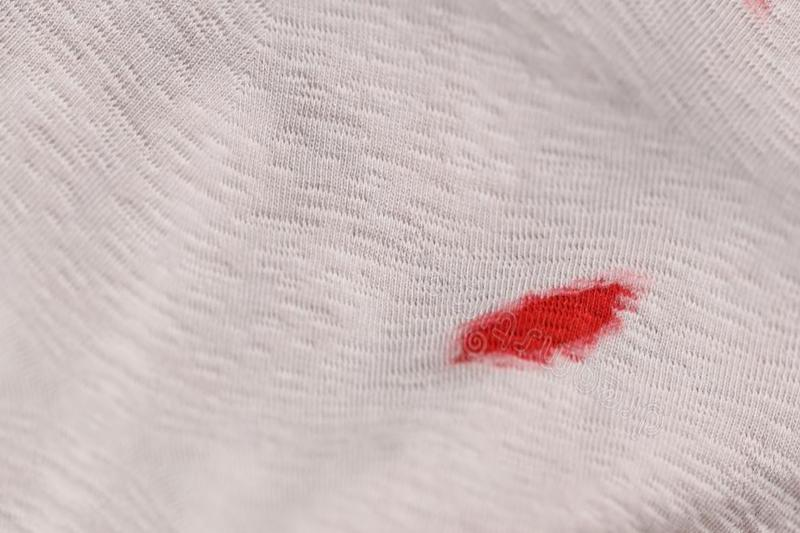stain: (447, 272, 648, 379)
